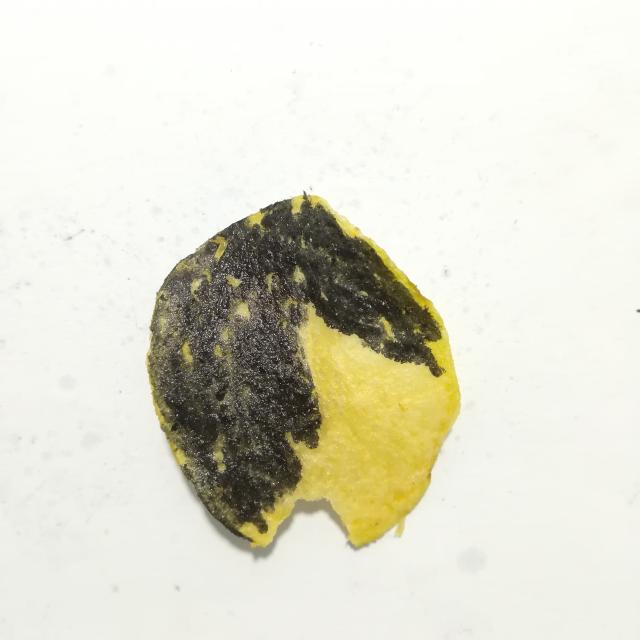chip: (147, 194, 460, 546)
damaged: (148, 195, 442, 533)
